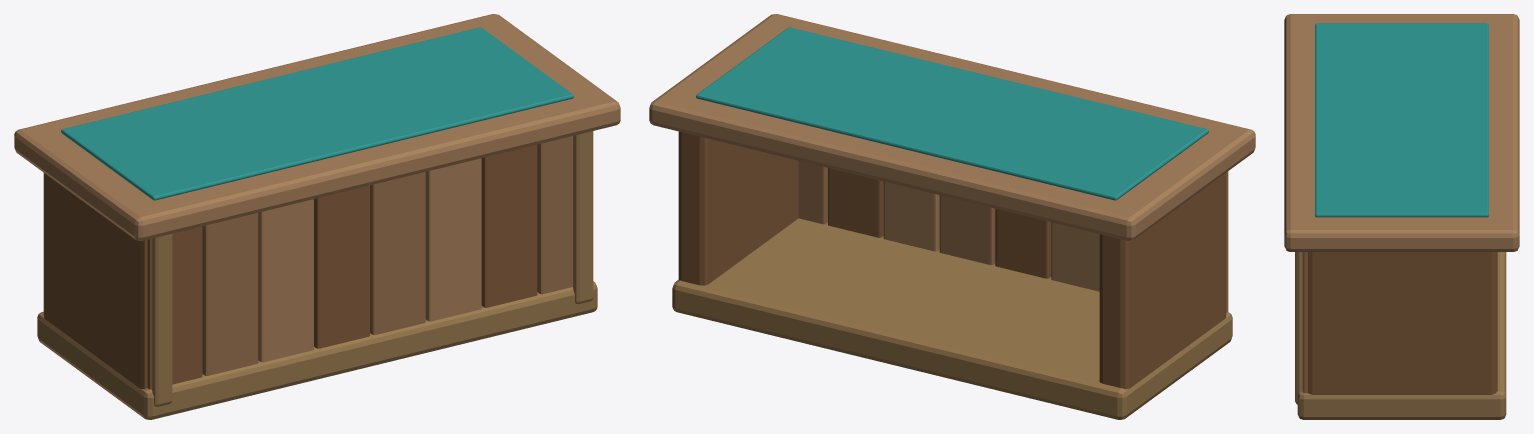
File: vendor_desk.glb
The picture shows the model from 3 angles, left to right: view 1: azimuth 30°, elevation 25°; view 2: azimuth 150°, elevation 25°; view 3: azimuth 270°, elevation 25°; orthographic projection. The views are drawn at different scales.
Visible parts, largest first — view 1: vendor_desk; view 2: vendor_desk; view 3: vendor_desk.
Part boxes in pixels (x1=…): vendor_desk: x1=14, y1=14, x2=620, y2=419; vendor_desk: x1=649, y1=14, x2=1255, y2=419; vendor_desk: x1=1284, y1=14, x2=1519, y2=419.
Size of the model in its own units: 3 by 1.27 by 1.35.
